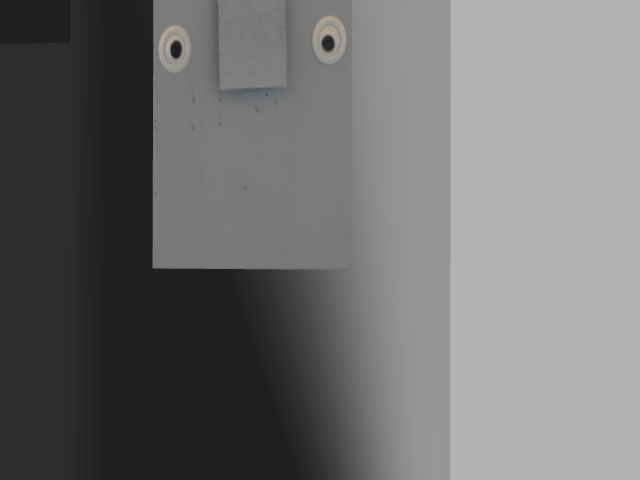facade: (157, 2, 347, 91)
